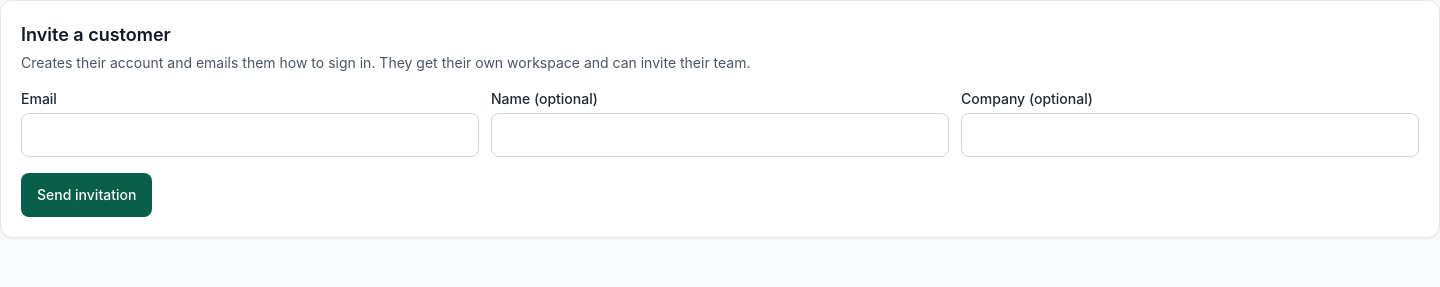
Test: invites a customer and reports the result
The image size is (1440, 287).
Type "riley@acme.test" into the field labelled "Email" at (250, 135), box 21,113 -> 479,157
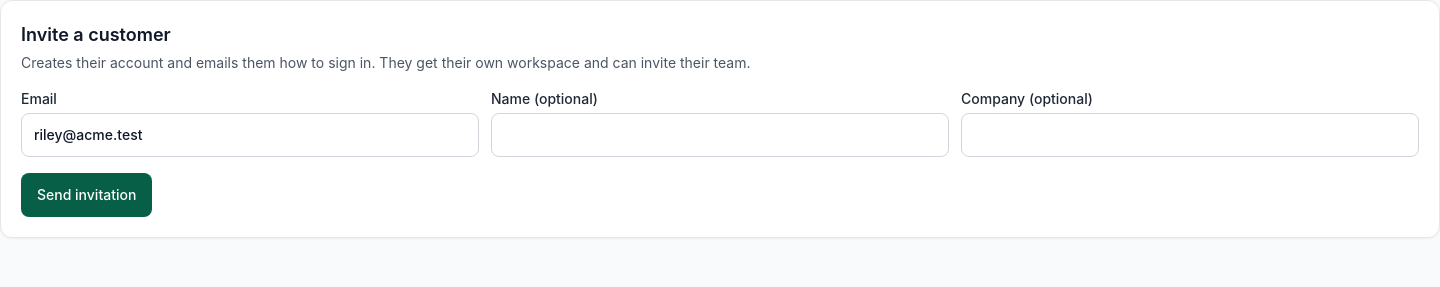
Type "Acme" into the field labelled "Company (optional)" at (1190, 135), box 961,113 -> 1419,157
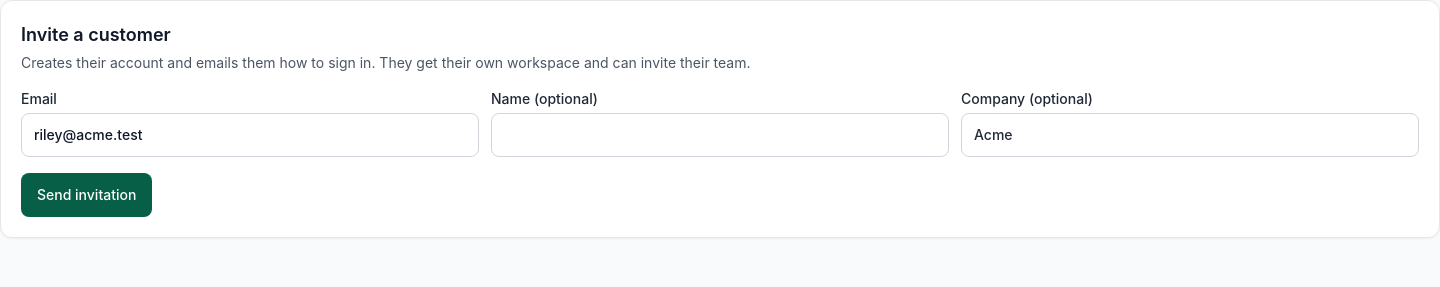
Click the button "Send invitation" at (87, 195), box 21,173 -> 152,217
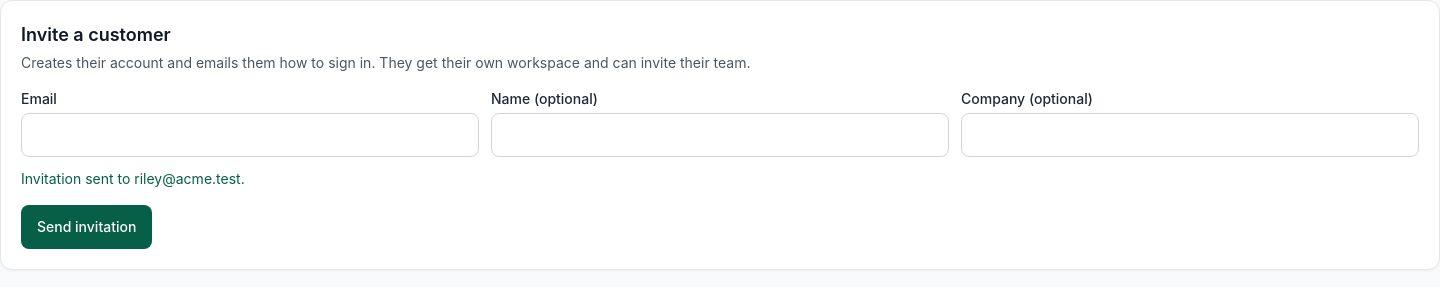
Expected: the message reads "Invitation sent to riley@acme.test.", 21,170 -> 245,187
